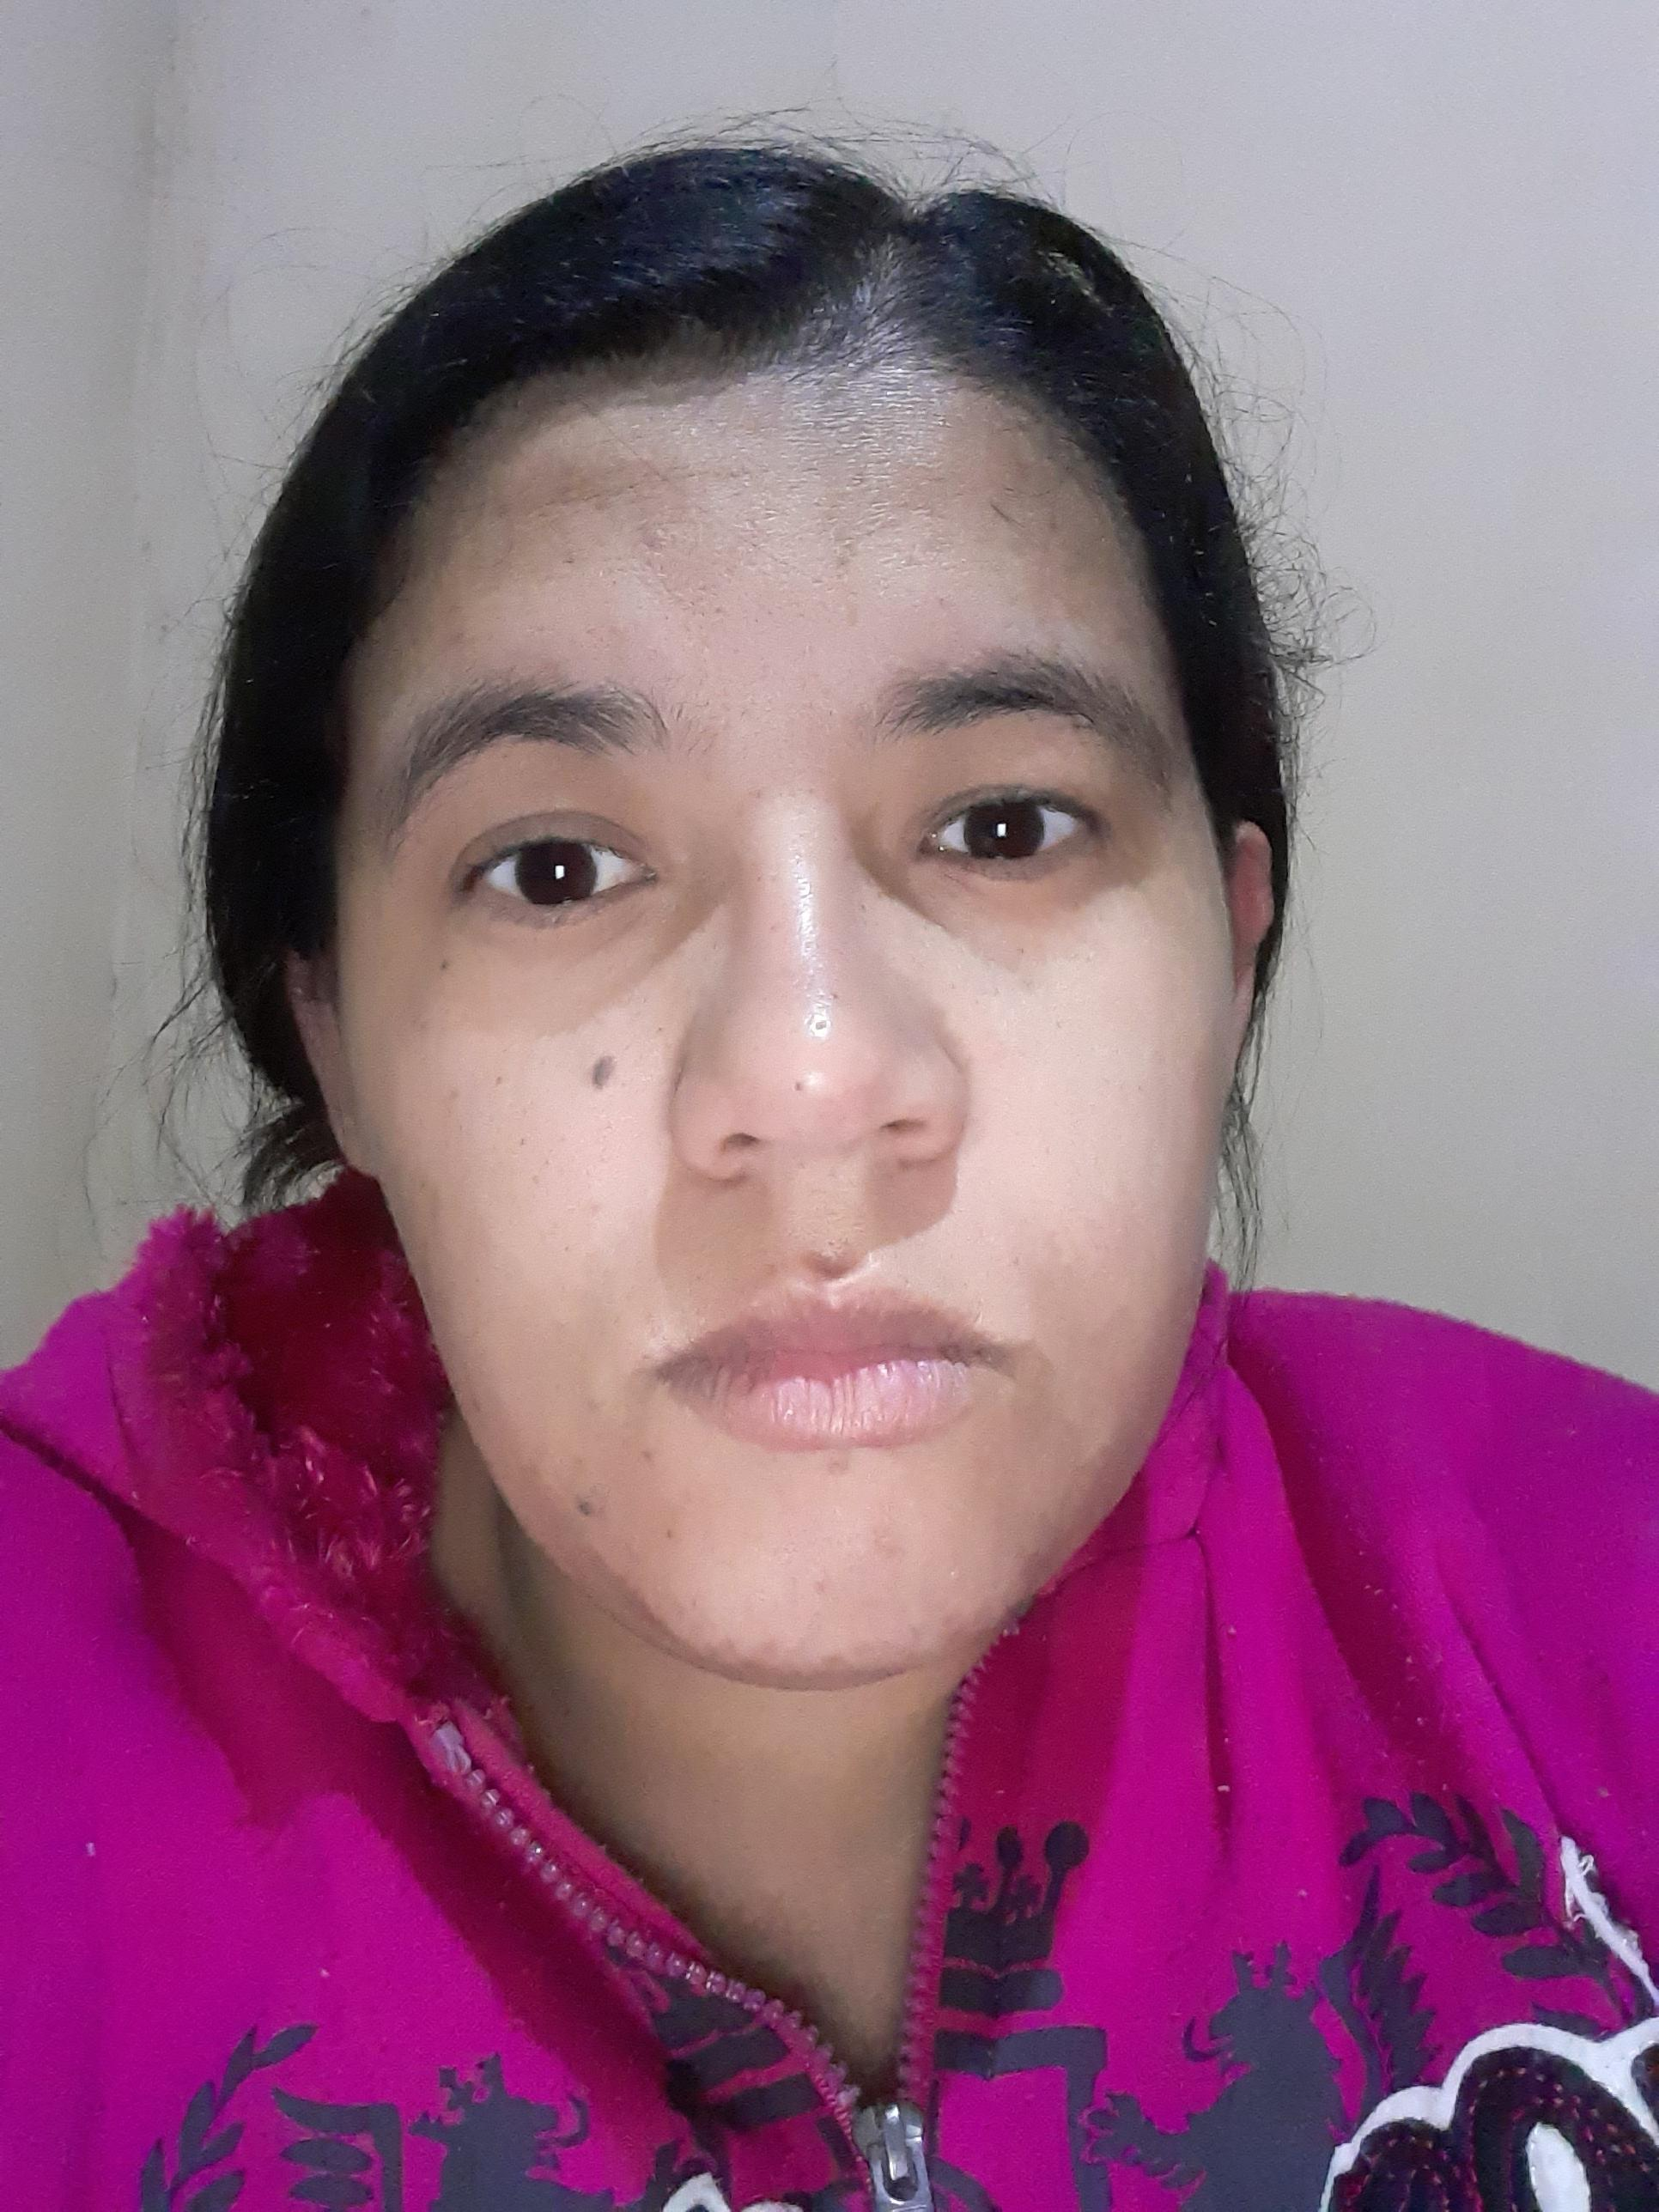Acne: (688, 1618, 786, 1660), (817, 1449, 873, 1493), (863, 1521, 910, 1568), (800, 1568, 845, 1601), (943, 1559, 992, 1588), (1087, 1420, 1115, 1470)
Englarged-Pores: (765, 890, 861, 1045), (636, 542, 735, 627), (826, 543, 882, 620), (777, 561, 833, 611)
